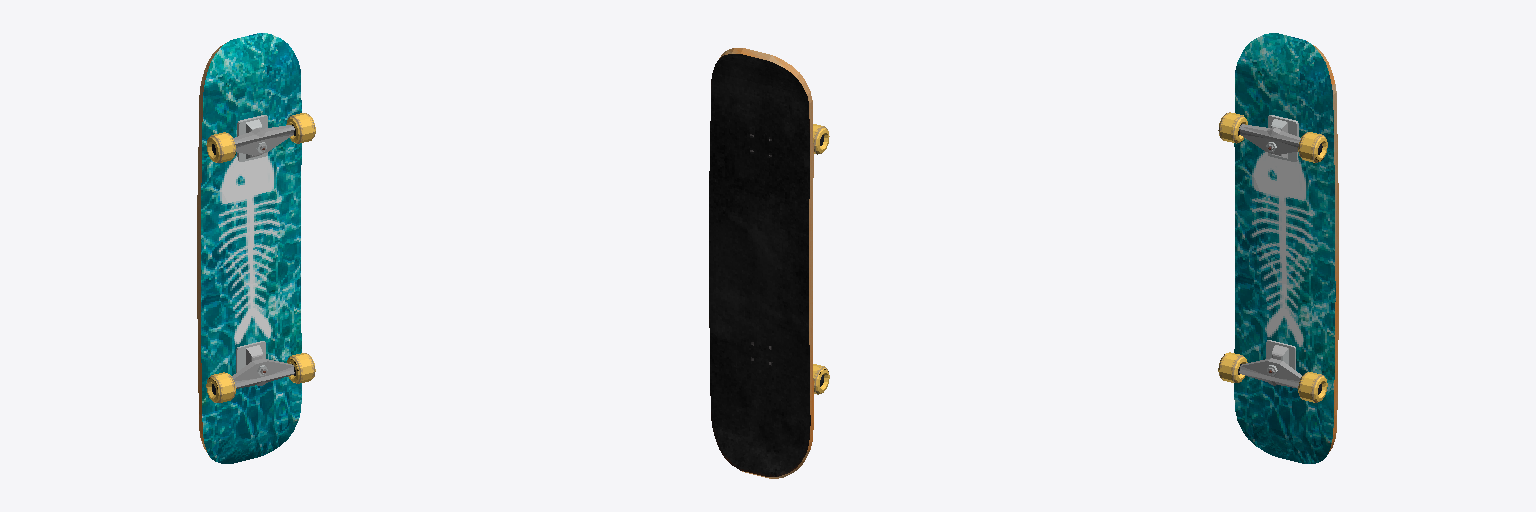
The picture shows the model from 3 angles: view 1: azimuth 30°, elevation 25°; view 2: azimuth 150°, elevation 25°; view 3: azimuth 330°, elevation 25°; orthographic projection.
Visible parts, largest first — view 1: SkateBoard_01; view 2: SkateBoard_01; view 3: SkateBoard_01.
Part boxes in pixels (x1,y1,x2,y2): SkateBoard_01: (197,33,315,463); SkateBoard_01: (709,48,829,478); SkateBoard_01: (1218,33,1338,463).
Size of the model in its own units: 0.3987 by 1.61 by 0.183.
Materials: 1 (1 with a texture image).